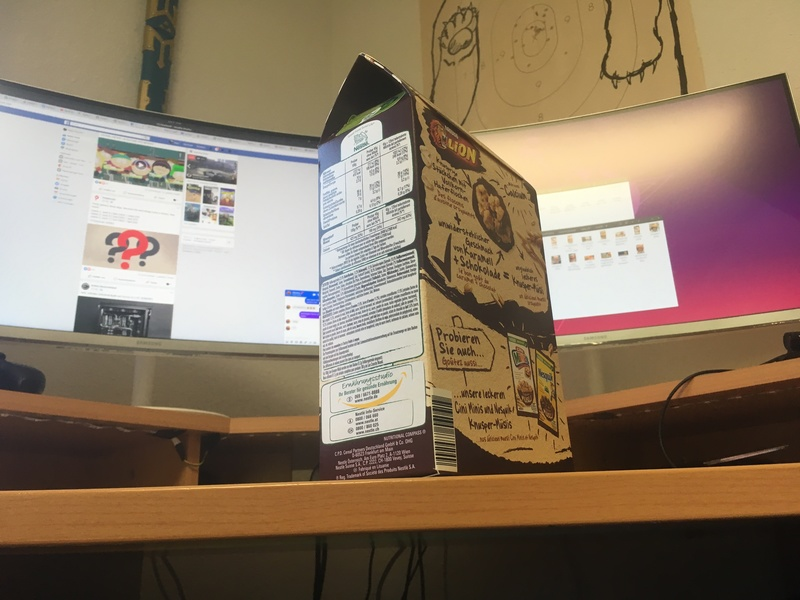cereals: (317, 52, 578, 471)
